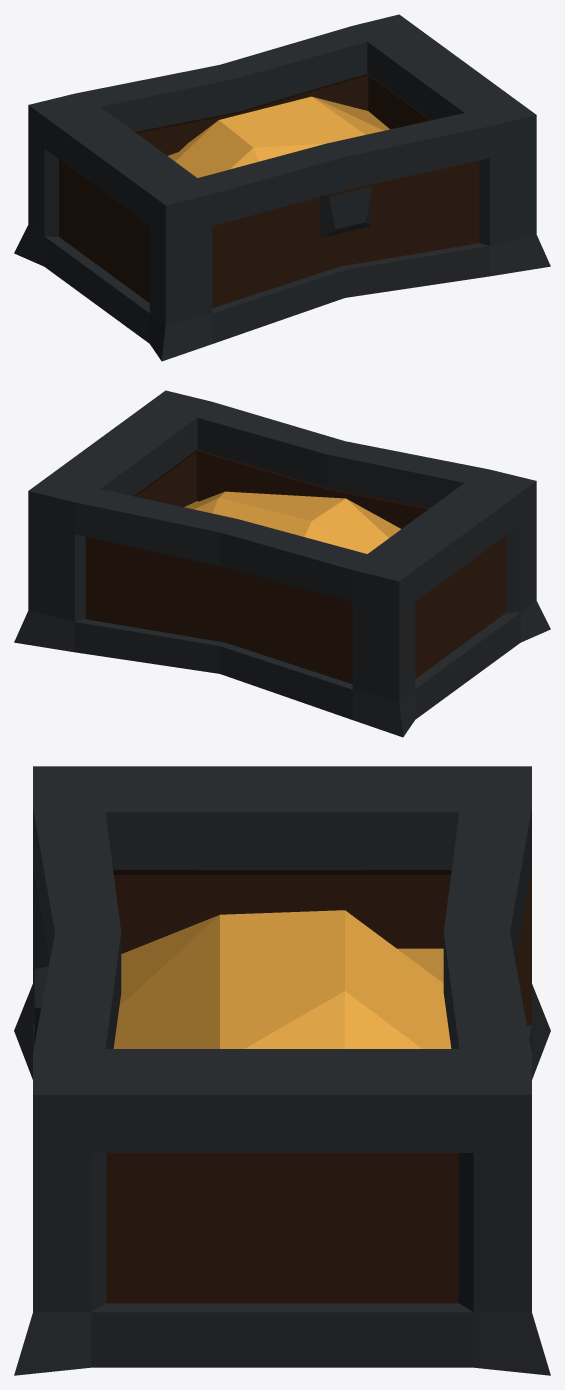
Rendered from chest.FBX.
3 views of the same model, one above another, from view 1: azimuth 30°, elevation 25°; view 2: azimuth 150°, elevation 25°; view 3: azimuth 270°, elevation 25° (orthographic). The views are drawn at different scales.
Parts seen in each view (by area): view 1: chest; view 2: chest; view 3: chest.
Part boxes in pixels (left/top/right/bottom): chest: left=14, top=14, right=550, bottom=361; chest: left=14, top=390, right=550, bottom=737; chest: left=14, top=766, right=550, bottom=1375.
Bounding box in the file's own units: 6.8 × 2.51 × 4.47.
